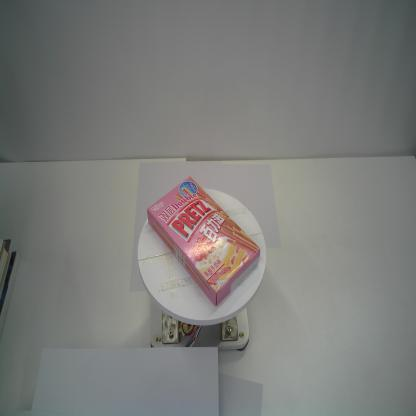Dessert: (147, 176, 260, 308)
